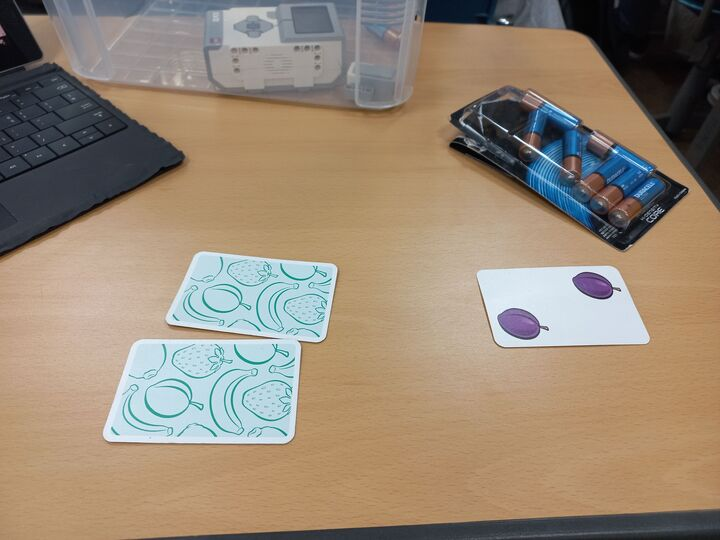plum2: (476, 263, 653, 349)
